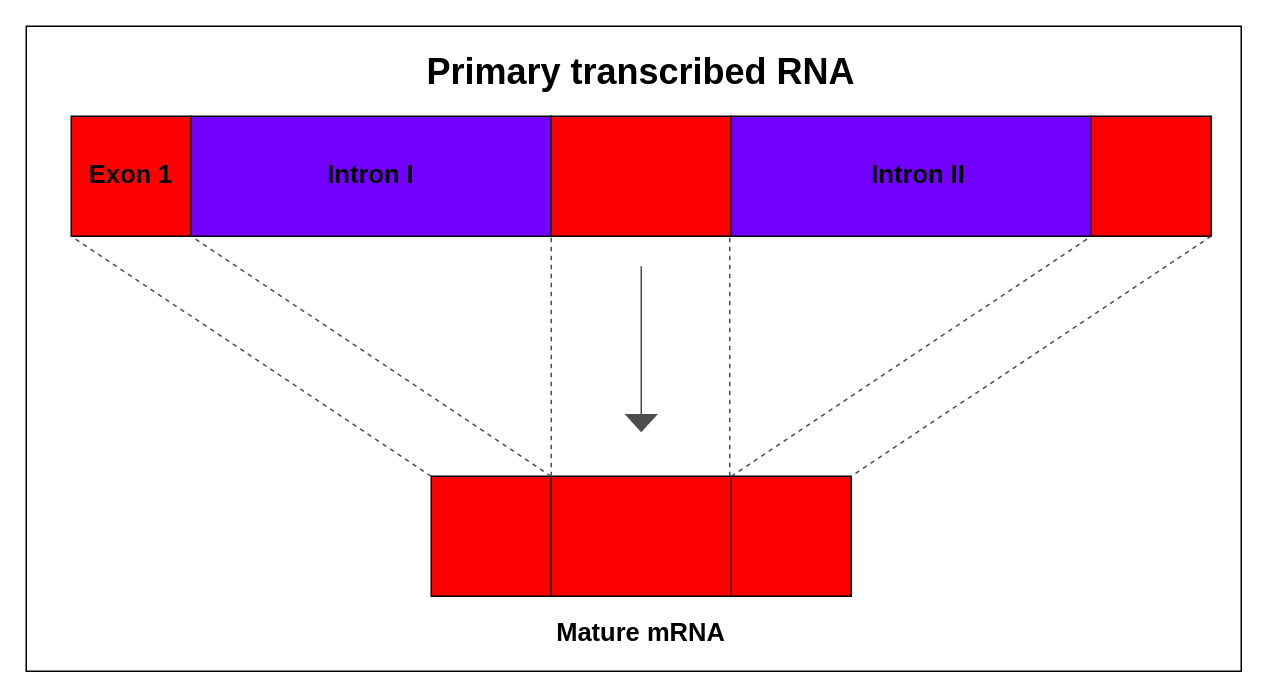
The diagram is 1268 pixels wide and 698 high, and some of its shapes have lost their labels. Here are the shapes that lost their labels. From the top down, the centre of each, then its label:
At (640,175): "Exon 2".
At (1150,175): "Exon 3".
